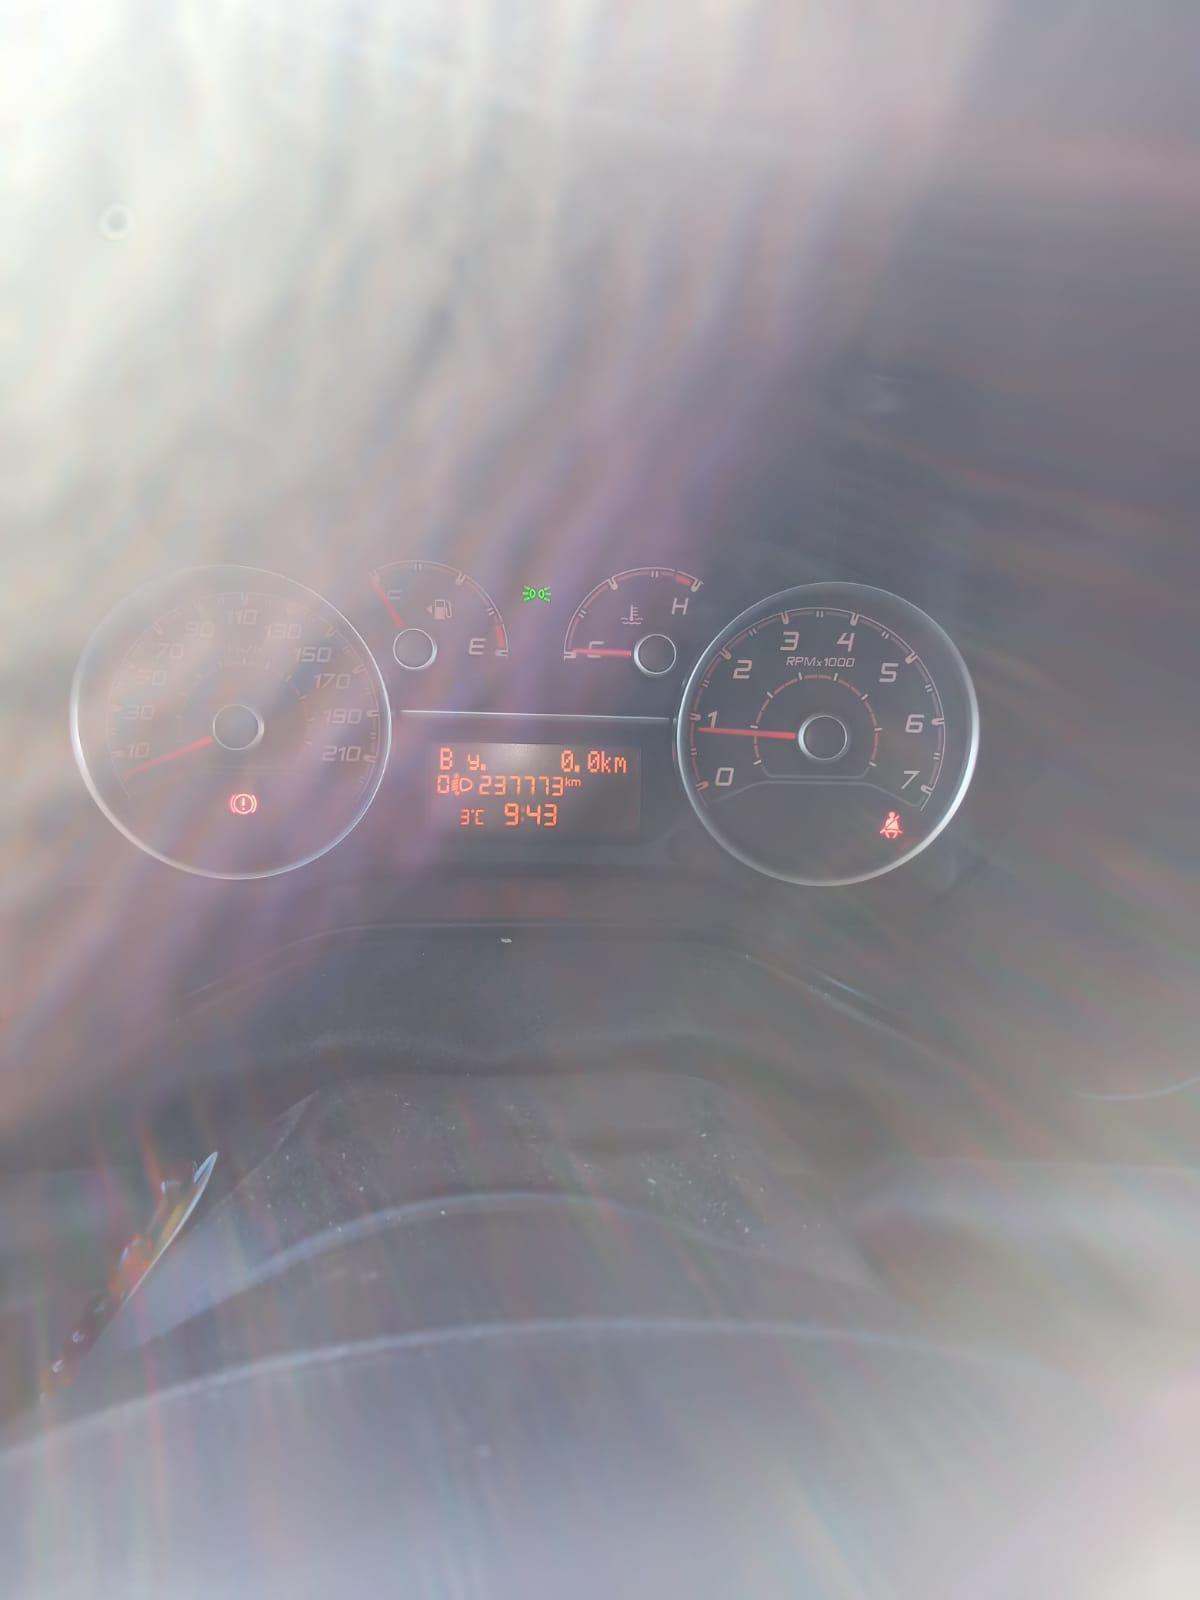,: (479, 762, 487, 771), (574, 763, 580, 774)
0: (586, 750, 600, 774), (560, 750, 574, 772), (436, 774, 450, 792)
2: (478, 775, 492, 795)
3: (542, 803, 557, 826), (550, 776, 563, 796), (493, 774, 505, 795), (459, 808, 469, 825)
4: (524, 803, 541, 825)
7: (508, 774, 521, 795), (538, 775, 550, 795), (523, 775, 534, 794)
9: (503, 803, 519, 826)
X: (439, 747, 453, 770), (600, 750, 611, 774), (613, 755, 626, 774), (466, 752, 479, 770), (474, 809, 484, 825), (563, 775, 571, 787), (571, 779, 580, 786), (521, 806, 524, 823)
odometer: (424, 740, 645, 837)
